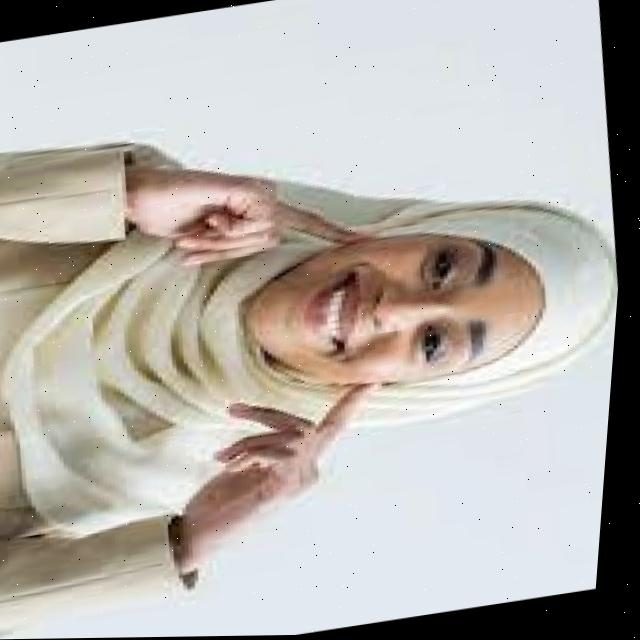happy: (167, 184, 598, 440)
